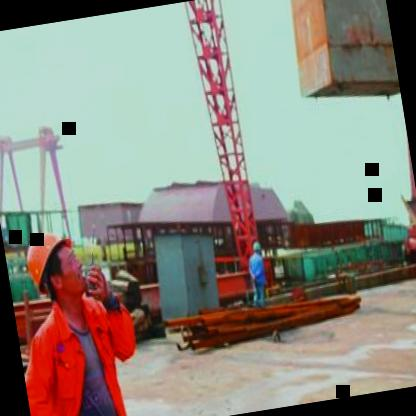helmet: (16, 221, 92, 316)
